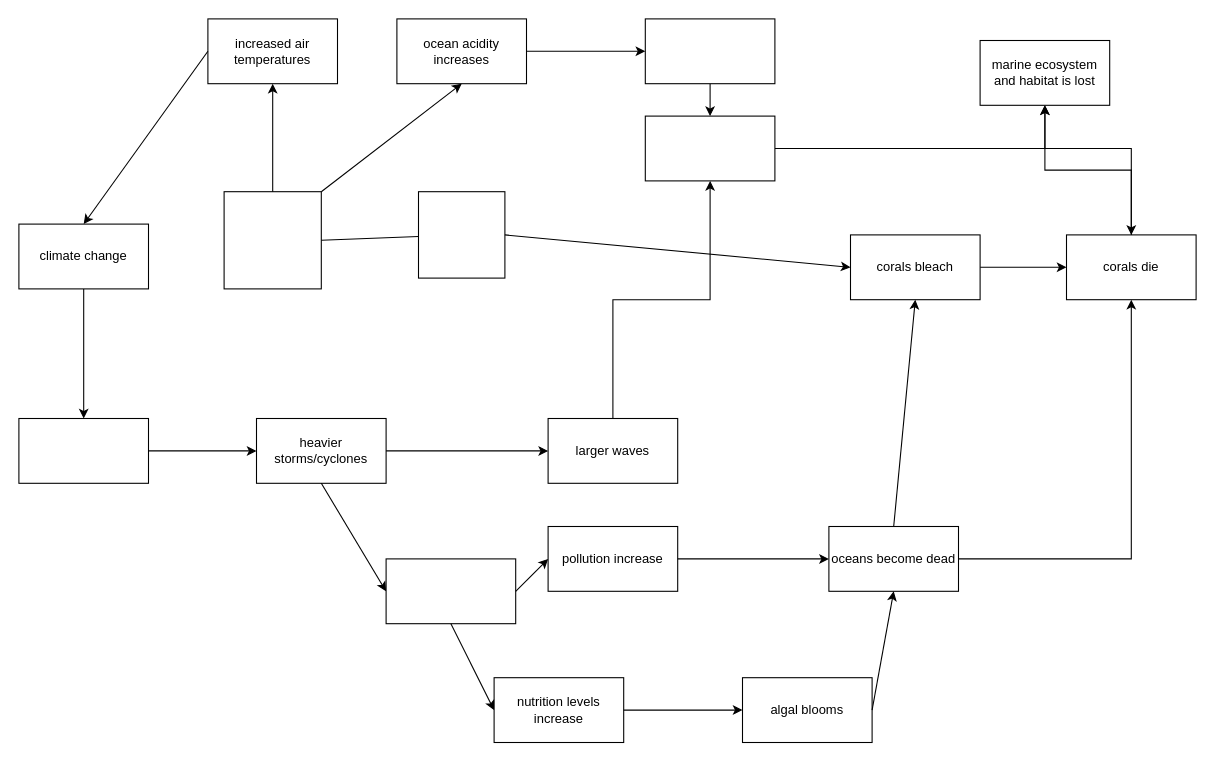
The diagram is 1215 pixels wide and 761 high, and some of its shapes have lost their labels. The shapes that lost their labels are listed below. From the top down, each one's box as (x1, y1, x2, y2) in pixels, then its label:
(644, 18, 775, 84): corals and other structures weaken
(644, 115, 775, 181): corals are destroyed
(223, 191, 321, 289): increased atmospheric greenhouse gases
(417, 191, 505, 278): increased water temp
(18, 417, 148, 483): increased natural disasters
(385, 558, 516, 624): more agricultural/industrial runoff from rivers
